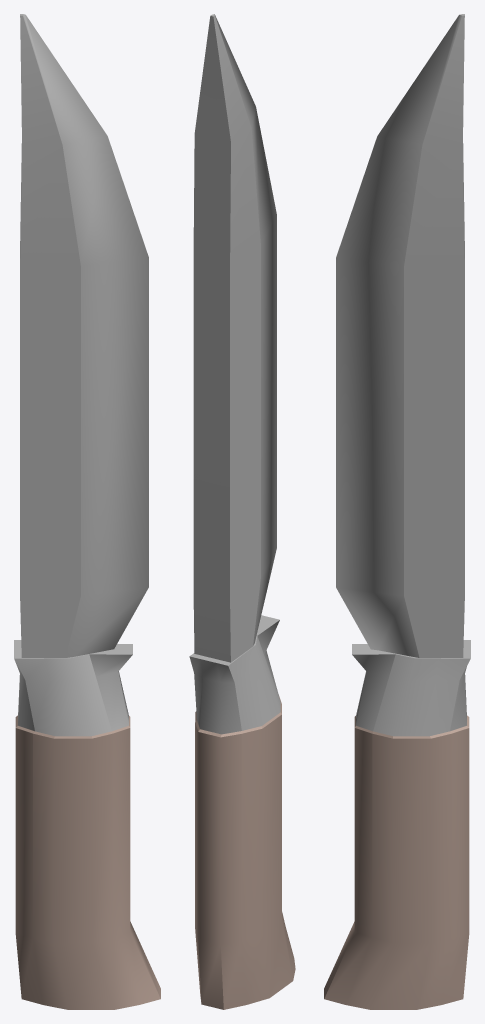
File: Kitchen Knife.fbx
3 views of the same model, side by side, from view 1: azimuth 90°, elevation 25°; view 2: azimuth 150°, elevation 25°; view 3: azimuth 270°, elevation 25° (orthographic).
Visible parts, largest first — view 1: pCube3; view 2: pCube3; view 3: pCube3.
Boxes of the visible parts, <box> form: pCube3: <box>14,14,160,1009</box>; pCube3: <box>189,14,295,1009</box>; pCube3: <box>324,14,470,1009</box>.
Bounding box in the file's own units: 0.9541 × 13.45 × 1.83.
